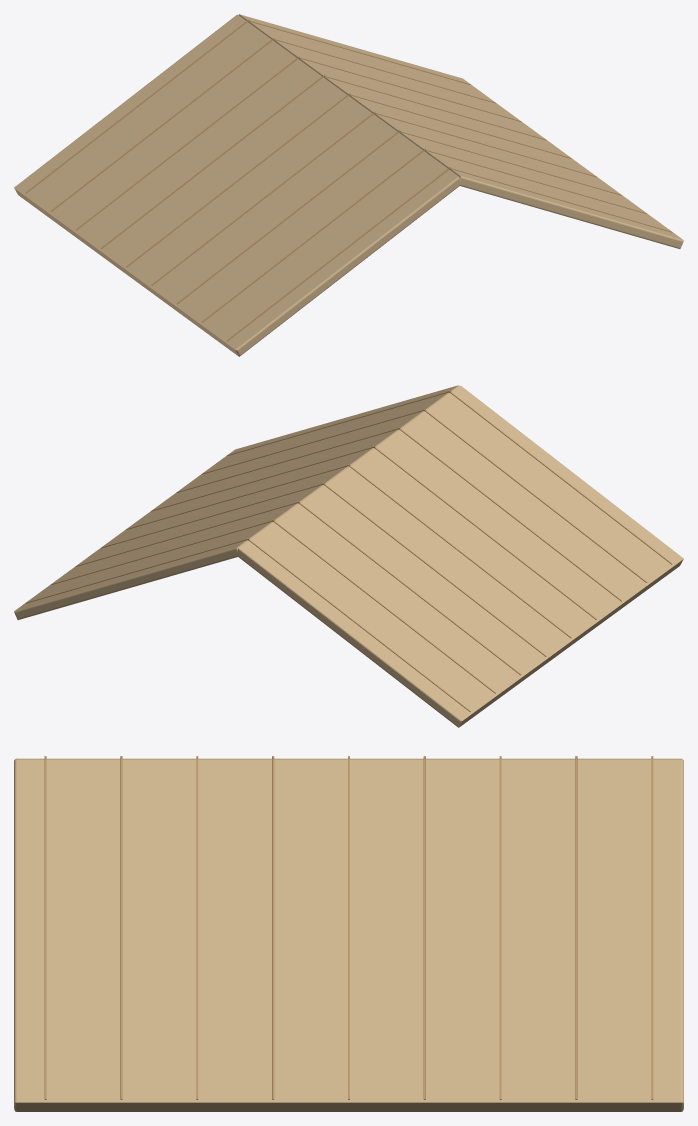
File: roof.glb
3 renders of one model, top to bottom at view 1: azimuth 30°, elevation 25°; view 2: azimuth 150°, elevation 25°; view 3: azimuth 270°, elevation 25°, orthographic. The views are drawn at different scales.
Visible parts, largest first — view 1: Timber roof plane (×2), Roof seam (×9); view 2: Timber roof plane (×2), Roof seam (×9); view 3: Timber roof plane (×2), Roof seam (×9).
Part boxes in pixels (box(x1,y1,x2,y2)): Timber roof plane (×2): box(14, 14, 683, 356); Roof seam (×9): box(25, 19, 450, 340); Timber roof plane (×2): box(14, 385, 683, 727); Roof seam (×9): box(247, 390, 672, 711); Timber roof plane (×2): box(14, 758, 683, 1111); Roof seam (×9): box(44, 756, 653, 1099).
Size of the model in its own units: 4.42 by 1.21 by 3.8.
